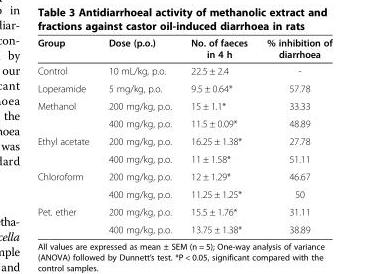table: (36, 36, 331, 234)
table column: (98, 36, 180, 234), (180, 36, 256, 234), (256, 36, 331, 234), (36, 36, 98, 234)
table column header: (36, 36, 331, 62)
table row: (36, 36, 331, 62), (36, 96, 331, 114), (36, 114, 331, 132), (36, 149, 331, 167), (36, 167, 331, 185), (36, 202, 331, 220), (36, 62, 331, 79), (36, 79, 331, 96), (36, 132, 331, 149), (36, 185, 331, 202), (36, 220, 331, 234)
table spanning cell: (36, 96, 98, 132), (36, 132, 98, 167), (36, 167, 98, 202), (36, 202, 98, 234)
